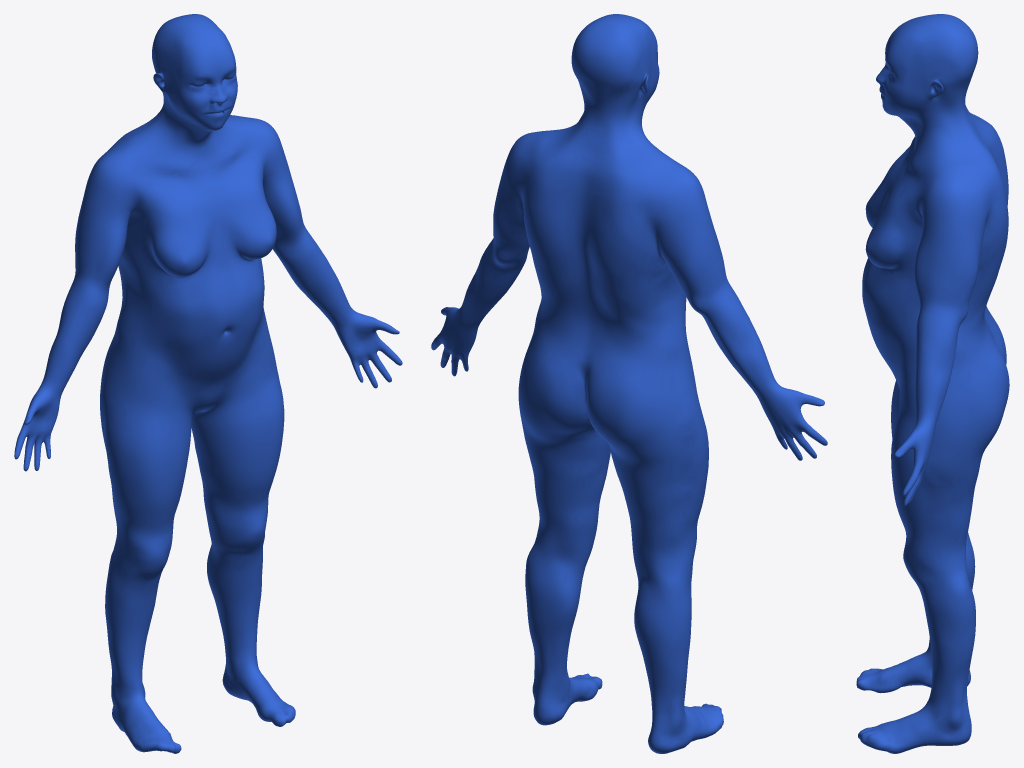
Rendered from skin.glb.
3 views of the same model, side by side, from view 1: azimuth 30°, elevation 25°; view 2: azimuth 150°, elevation 25°; view 3: azimuth 270°, elevation 25° (orthographic). The views are drawn at different scales.
Parts seen in each view (by area): view 1: VH_F_skin; view 2: VH_F_skin; view 3: VH_F_skin.
Part boxes in pixels (box(x1,y1,x2,y2)): VH_F_skin: box(14, 14, 402, 753); VH_F_skin: box(431, 14, 827, 753); VH_F_skin: box(856, 14, 1009, 753).
Size of the model in its own units: 0.9671 by 1.67 by 0.3291.
